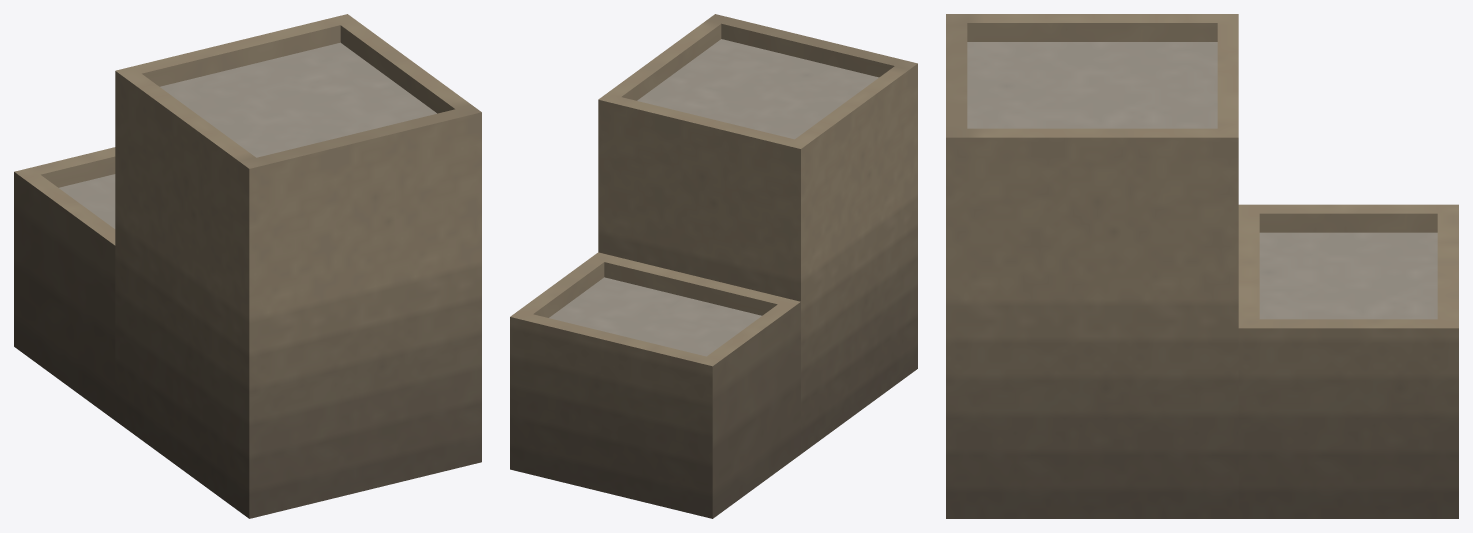
File: 1x2_Building_2.fbx
3 renders of one model, left to right at view 1: azimuth 30°, elevation 25°; view 2: azimuth 150°, elevation 25°; view 3: azimuth 270°, elevation 25°, orthographic. The views are drawn at different scales.
Visible parts, largest first — view 1: 1x2_building_1; view 2: 1x2_building_1; view 3: 1x2_building_1.
Part boxes in pixels (<box>): 1x2_building_1: <box>14,14,481,518</box>; 1x2_building_1: <box>510,14,917,518</box>; 1x2_building_1: <box>946,14,1458,518</box>.
Size of the model in its own units: 139 by 200 by 244.
Materials: 1 (1 with a texture image).
